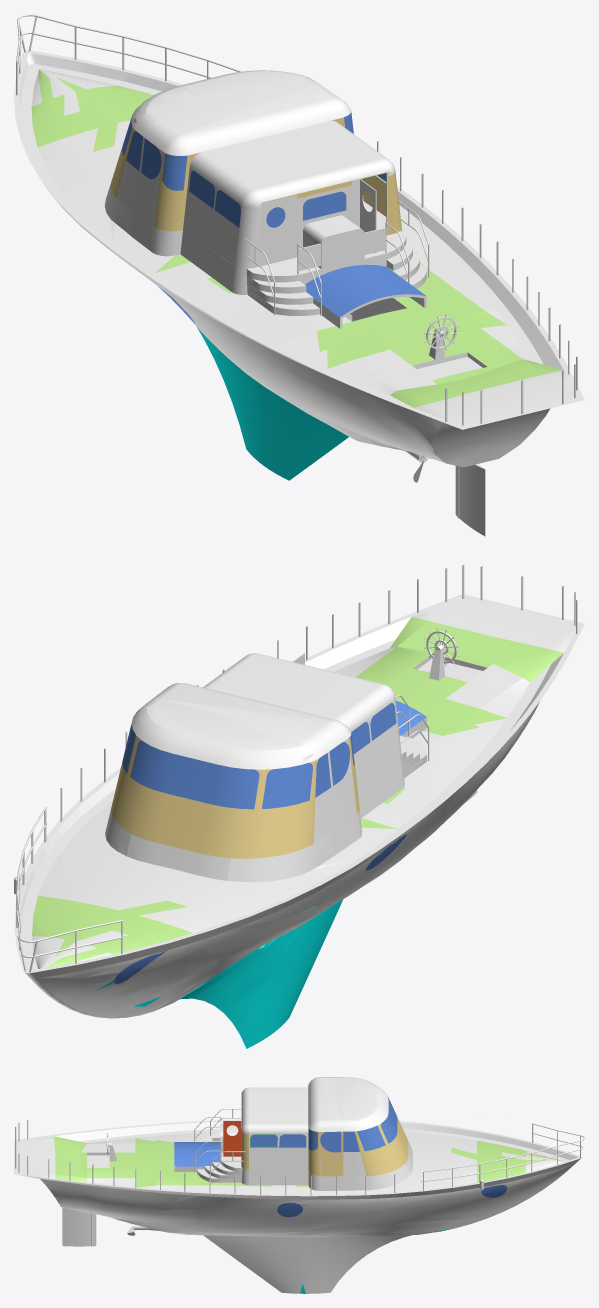
File: Boat_4.fbx
3 renders of one model, top to bottom at view 1: azimuth 30°, elevation 25°; view 2: azimuth 150°, elevation 25°; view 3: azimuth 270°, elevation 25°, orthographic. The views are drawn at different scales.
Visible parts, largest first — view 1: Layer0_002; view 2: Layer0_002; view 3: Layer0_002.
Part boxes in pixels (x1,y1,x2,y2): Layer0_002: (14, 14, 584, 536); Layer0_002: (14, 565, 584, 1048); Layer0_002: (14, 1077, 584, 1293).
Size of the model in its own units: 9329 by 10813 by 28883.
